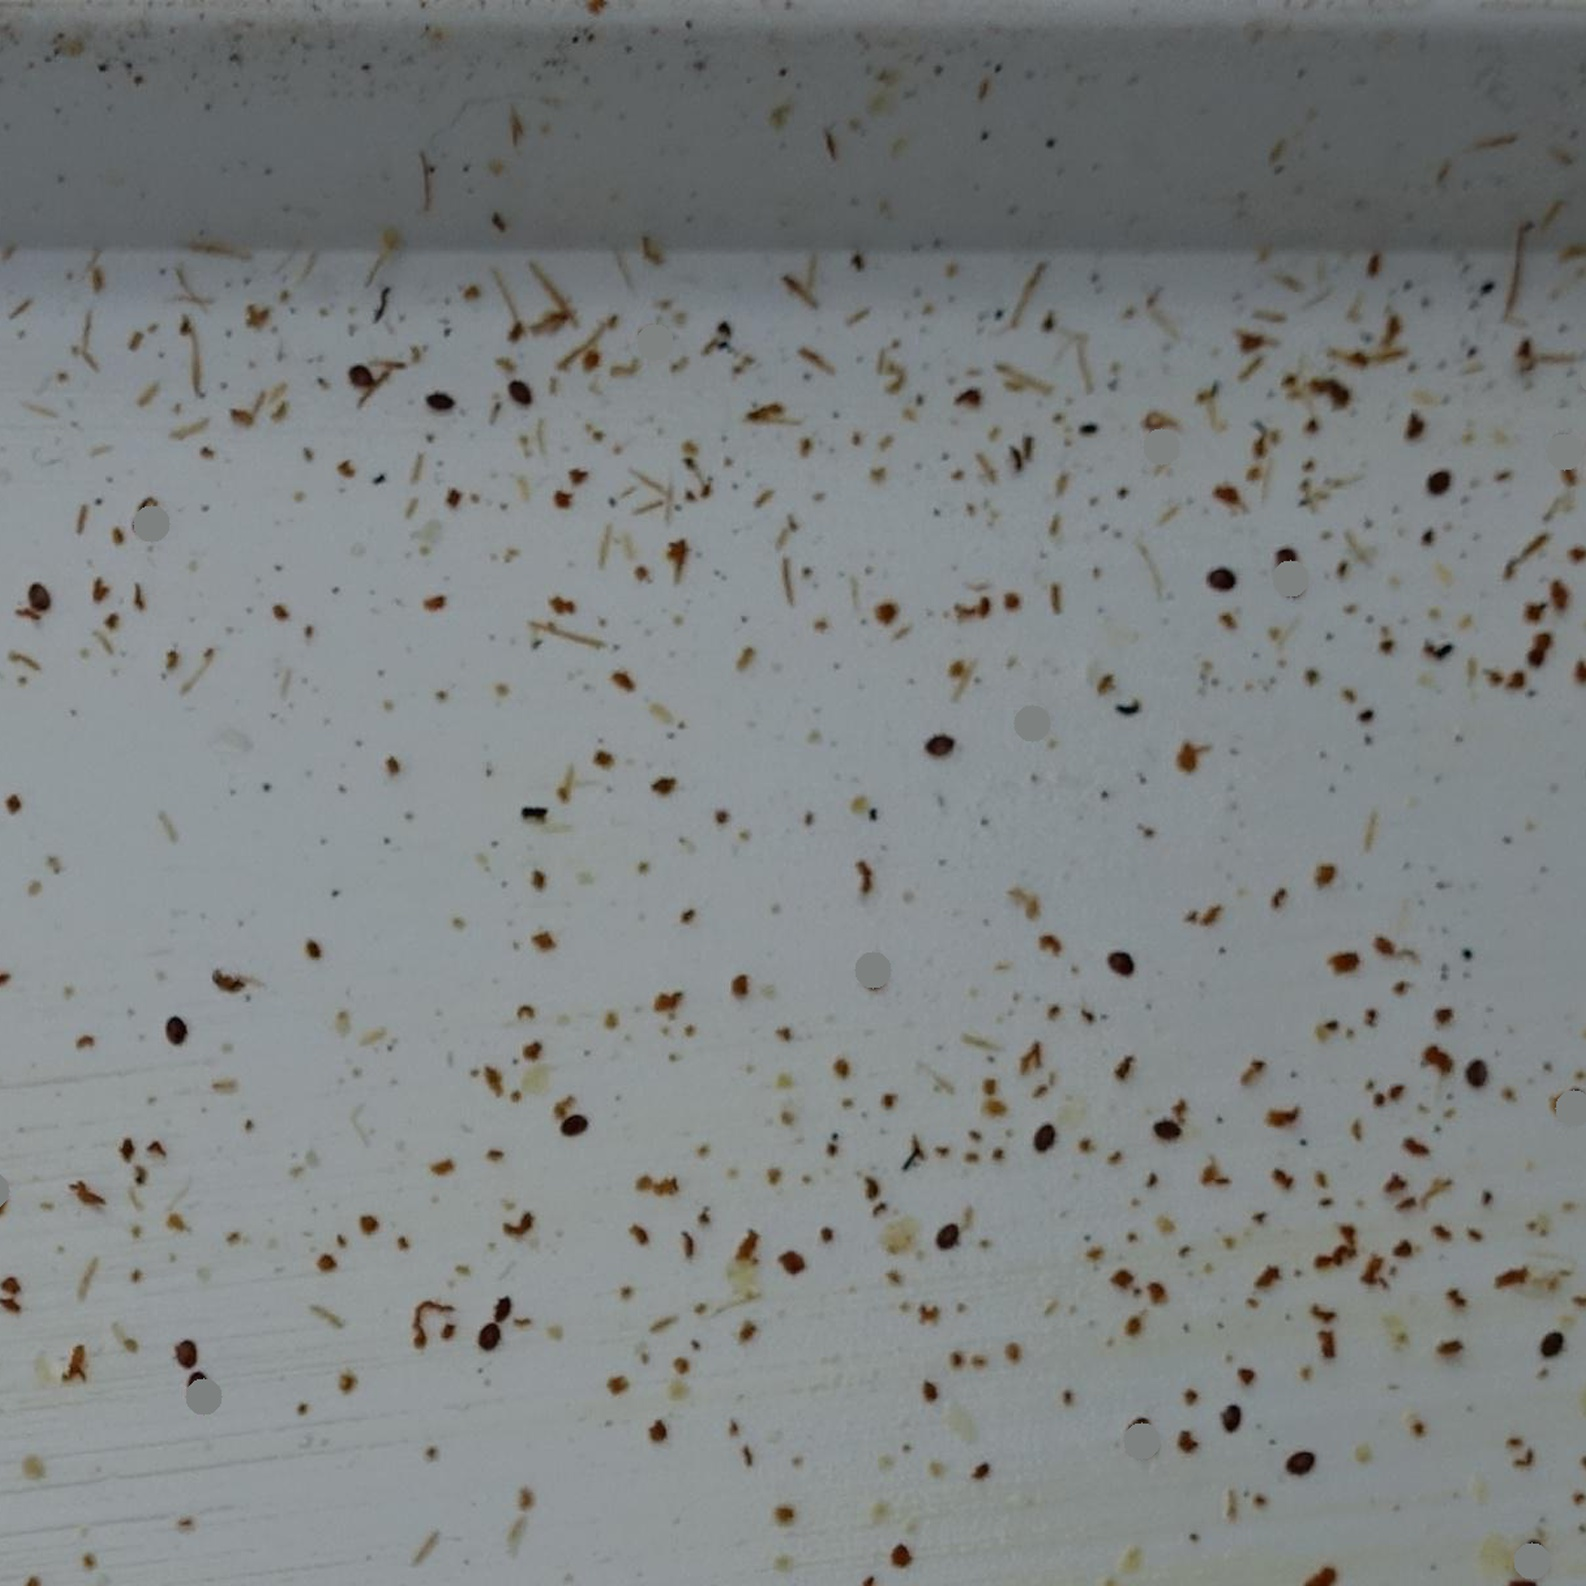Varroa: (479, 1287, 523, 1330), (25, 584, 52, 611), (1208, 566, 1236, 594), (1107, 948, 1131, 976), (174, 1338, 199, 1365), (1033, 1124, 1057, 1149), (428, 394, 452, 417), (166, 1017, 187, 1040), (927, 1232, 948, 1255), (1220, 1406, 1240, 1431), (1468, 1062, 1490, 1083), (1428, 472, 1447, 492), (479, 1326, 498, 1346), (566, 1114, 585, 1133), (1158, 1120, 1172, 1134), (1542, 1335, 1555, 1349), (353, 367, 366, 382), (934, 738, 947, 751), (513, 382, 526, 394), (192, 1377, 203, 1388), (948, 1232, 959, 1243), (1300, 1457, 1310, 1467), (518, 395, 532, 402)
